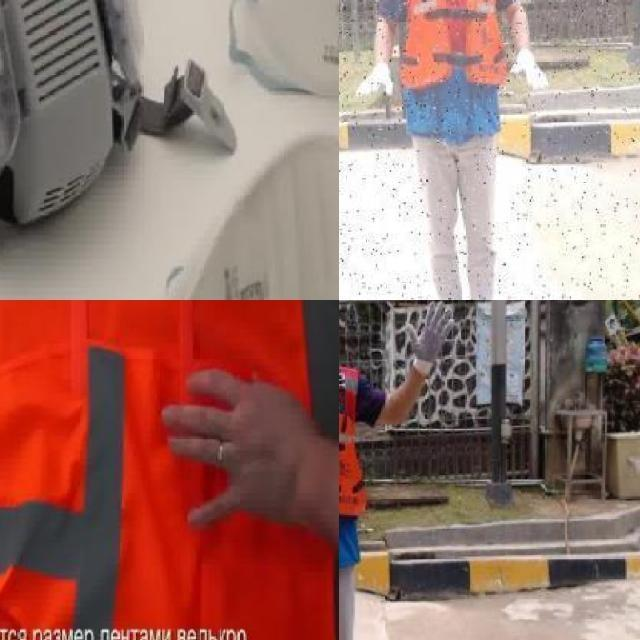apron: (405, 300, 454, 376), (352, 59, 396, 108), (510, 48, 550, 96)
